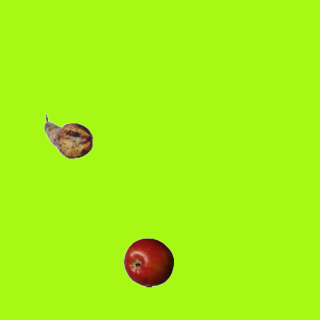Apple Braeburn: (123, 237, 173, 287)
Pear Abate: (43, 111, 93, 161)
